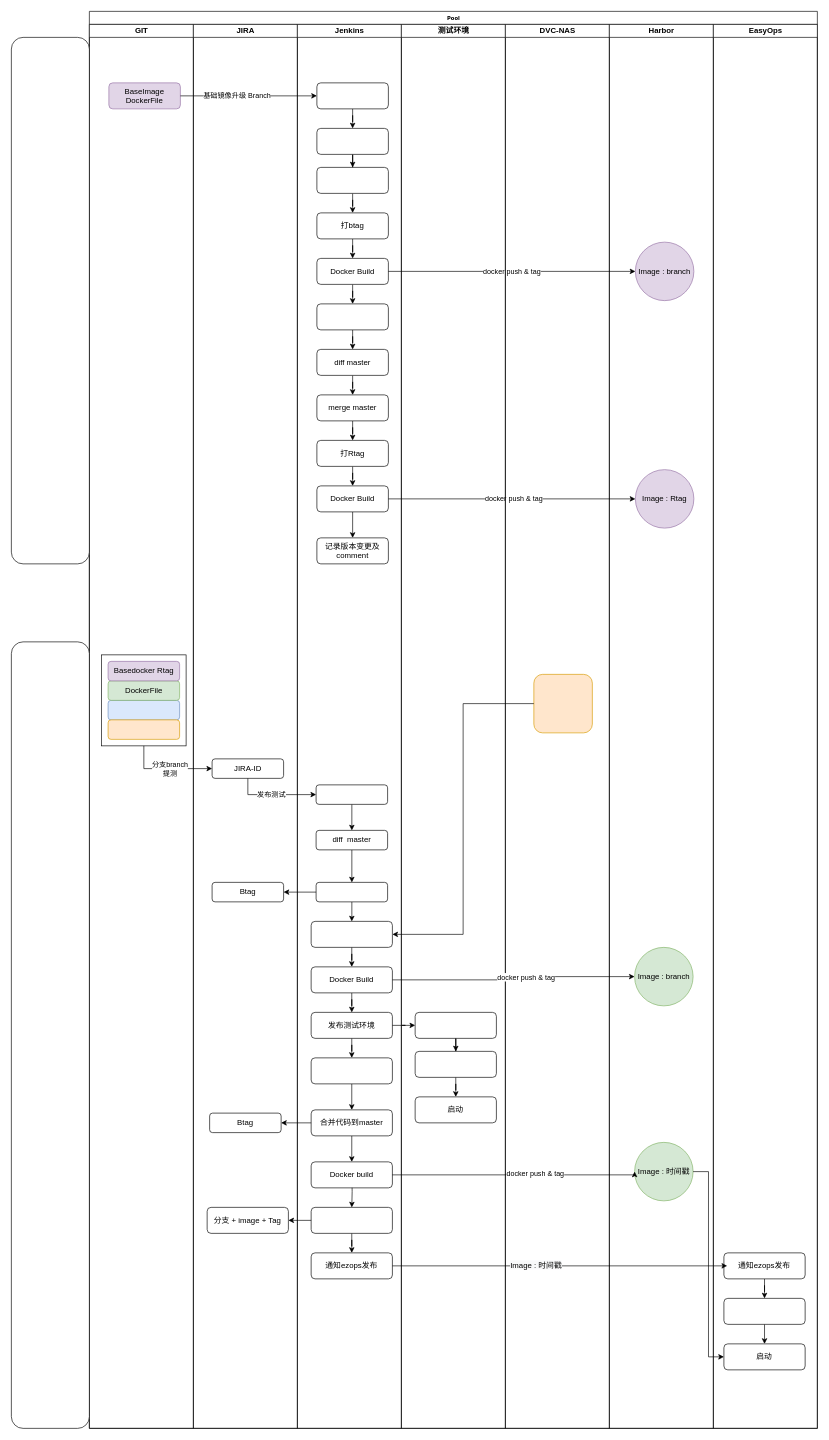
The diagram is 829 pixels wide and 1440 high, and some of its shapes have lost their labels. The centre of each missing label's shape, as x and y in pixels:
Btag 发布线上: the point at 352,316
Btag发布线上环境: the point at 351,1070
CI JOB: the point at 352,95
CI-JOB: the point at 351,794
代码本体: the point at 143,710
分支镜像: the point at 50,1034
回写JIRA做记录: the point at 351,1220
基础镜像: the point at 50,300
拉取Branch分支到本地: the point at 352,141
拉取branch到本地: the point at 351,892
拉取image:branch: the point at 455,1064
拉取模型原文件到本地: the point at 351,934
拉取镜像文件: the point at 764,1311
本地Container清理: the point at 455,1025
校验是否同步master: the point at 352,180
模型文件md5: the point at 143,729
模型文件本体: the point at 562,703
